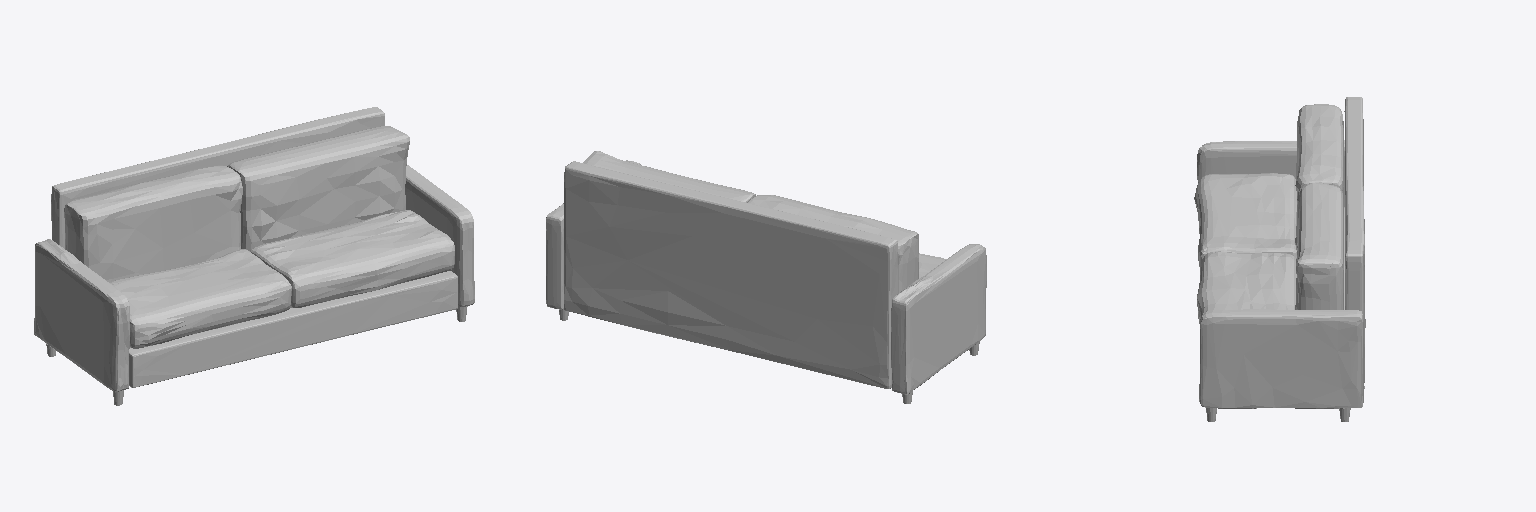
The model's file is sofa.obj.
3 views of the same model, side by side, from view 1: azimuth 30°, elevation 25°; view 2: azimuth 150°, elevation 25°; view 3: azimuth 270°, elevation 25° (orthographic).
Visible parts, largest first — view 1: Cylinder.001; view 2: Cylinder.001; view 3: Cylinder.001.
Boxes of the visible parts, x1=… form: Cylinder.001: x1=34, y1=107, x2=474, y2=405; Cylinder.001: x1=546, y1=151, x2=986, y2=403; Cylinder.001: x1=1194, y1=97, x2=1365, y2=421.
Bounding box in the file's own units: 1.8 × 0.7656 × 0.7342.